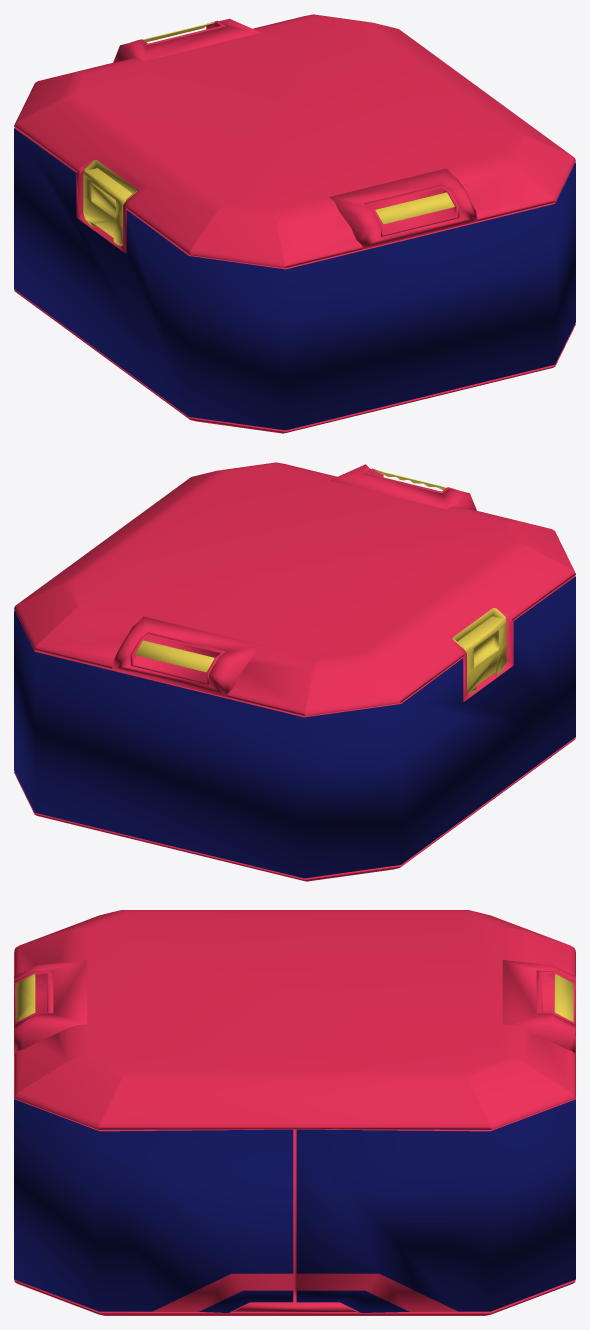
File: Toolbox by Karen.fbx
The picture shows the model from 3 angles, top to bottom: view 1: azimuth 30°, elevation 25°; view 2: azimuth 150°, elevation 25°; view 3: azimuth 270°, elevation 25°; orthographic projection. The views are drawn at different scales.
Visible parts, largest first — view 1: Base, Manija, Manija 3; view 2: Base, Manija, Manija 3; view 3: Base, Manija 3.
Part boxes in pixels (x1,y1,x2,y2): Base: (14, 14, 575, 433); Manija: (83, 160, 137, 245); Manija 3: (143, 22, 454, 224); Base: (14, 462, 575, 881); Manija: (452, 608, 506, 693); Manija 3: (135, 470, 446, 672); Base: (14, 910, 575, 1315); Manija 3: (16, 974, 573, 1021).
Size of the model in its own units: 1001 by 493 by 1122.
